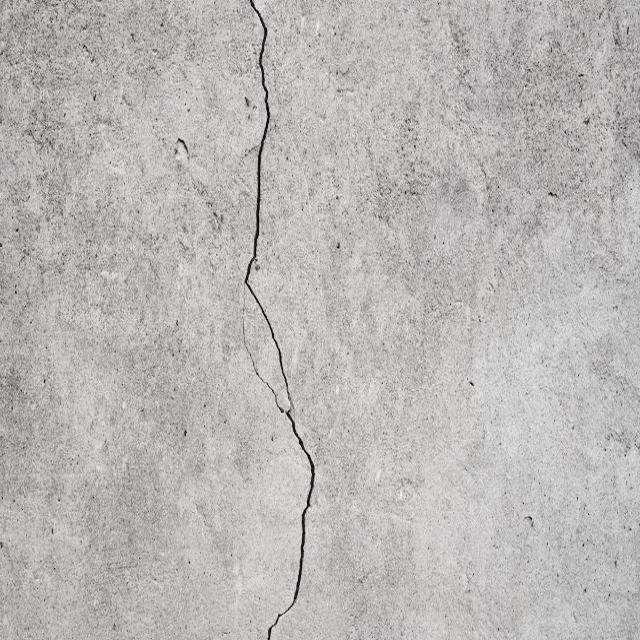Crack: (232, 0, 280, 278), (238, 262, 295, 426), (286, 410, 326, 588), (249, 583, 299, 640)
